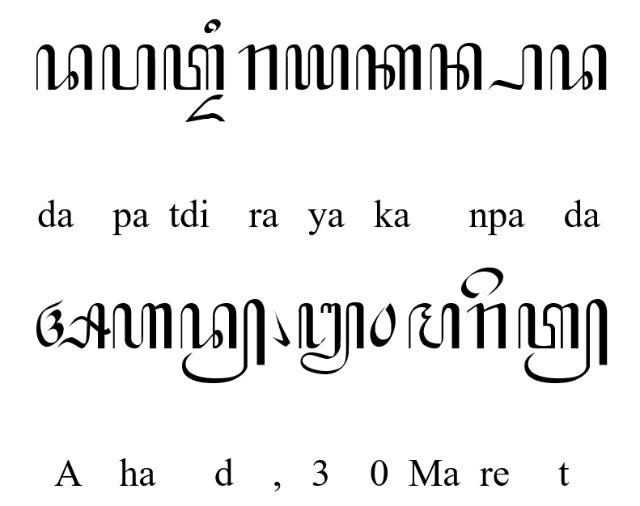-d: (180, 298, 266, 384)
-t: (518, 298, 608, 384)
0: (369, 304, 396, 348)
A: (35, 298, 111, 350)
_d: (184, 94, 226, 122)
_p: (487, 44, 543, 91)
d: (549, 44, 609, 91), (35, 44, 93, 91)
e: (460, 267, 504, 301)
h: (112, 304, 174, 350)
i: (203, 18, 220, 34)
k: (354, 44, 422, 91)
kom: (270, 308, 290, 348)
m: (408, 302, 460, 350)
n: (429, 41, 483, 91)
ngya: (297, 302, 365, 376)
p: (102, 43, 156, 91)
r: (467, 302, 508, 350), (238, 44, 278, 91)
t: (163, 44, 225, 91)
y: (284, 44, 350, 91)
